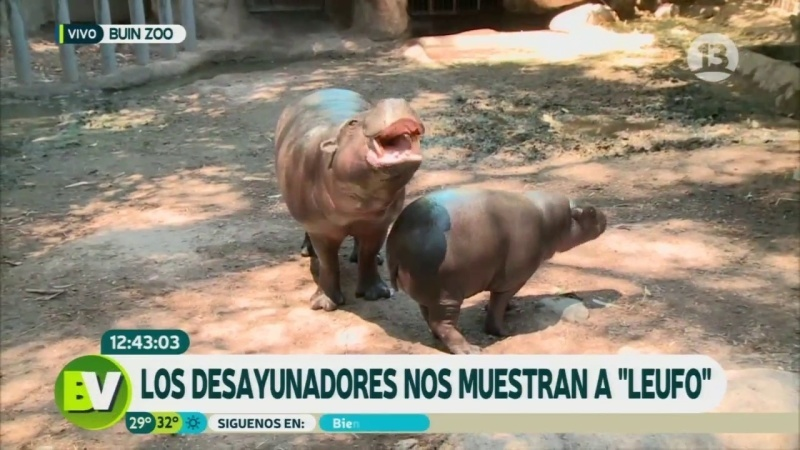hipopotamo: (257, 78, 433, 318), (386, 173, 628, 346)
